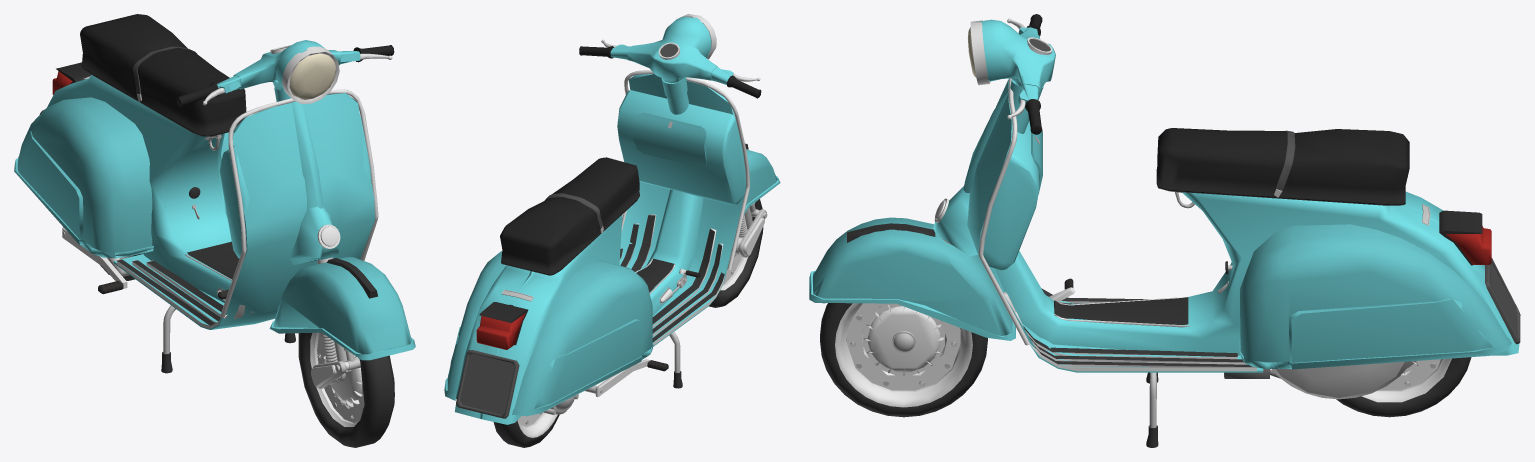
The model's file is scooter.glb.
3 views of the same model, side by side, from view 1: azimuth 30°, elevation 25°; view 2: azimuth 150°, elevation 25°; view 3: azimuth 270°, elevation 25° (orthographic). The views are drawn at different scales.
Visible parts, largest first — view 1: object 32, object 17, object 84, object 83, object 87, object 90, object 76, object 34, object 16, object 5, object 12, object 55 (+9 smaller); view 2: object 17, object 84, object 83, object 16, object 32, object 5, object 76, object 80, object 82, object 58, object 90, object 34 (+10 smaller); view 3: object 17, object 84, object 83, object 90, object 87, object 32, object 76, object 16, object 58, object 5, object 75, object 55 (+6 smaller).
Part boxes in pixels (<box>): object 32: <box>113,93,375,329</box>; object 17: <box>14,97,235,258</box>; object 84: <box>47,74,231,302</box>; object 83: <box>80,14,246,136</box>; object 87: <box>273,257,411,354</box>; object 90: <box>298,332,394,447</box>; object 76: <box>116,259,253,328</box>; object 34: <box>220,89,378,318</box>; object 16: <box>219,117,371,258</box>; object 5: <box>233,40,341,93</box>; object 12: <box>289,53,335,99</box>; object 55: <box>187,241,239,279</box>; object 17: <box>444,251,653,416</box>; object 84: <box>455,189,703,424</box>; object 83: <box>500,157,639,275</box>; object 16: <box>617,90,746,205</box>; object 32: <box>619,74,746,346</box>; object 5: <box>627,16,717,80</box>; object 76: <box>619,214,724,345</box>; object 80: <box>456,350,519,418</box>; object 82: <box>632,112,706,167</box>; object 58: <box>493,412,559,447</box>; object 90: <box>709,199,763,307</box>; object 34: <box>621,70,749,269</box>; object 17: <box>1239,224,1511,369</box>; object 84: <box>995,191,1519,355</box>; object 83: <box>1156,128,1409,205</box>; object 90: <box>820,303,987,417</box>; object 87: <box>813,217,1012,335</box>; object 32: <box>933,79,1263,372</box>; object 76: <box>1003,288,1256,371</box>; object 16: <box>983,121,1038,270</box>; object 58: <box>1336,357,1471,417</box>; object 5: <box>980,19,1055,96</box>; object 75: <box>1271,361,1411,399</box>; object 55: <box>1054,297,1188,324</box>.
Bounding box in the file's own units: 0.6628 × 1.09 × 1.79.
